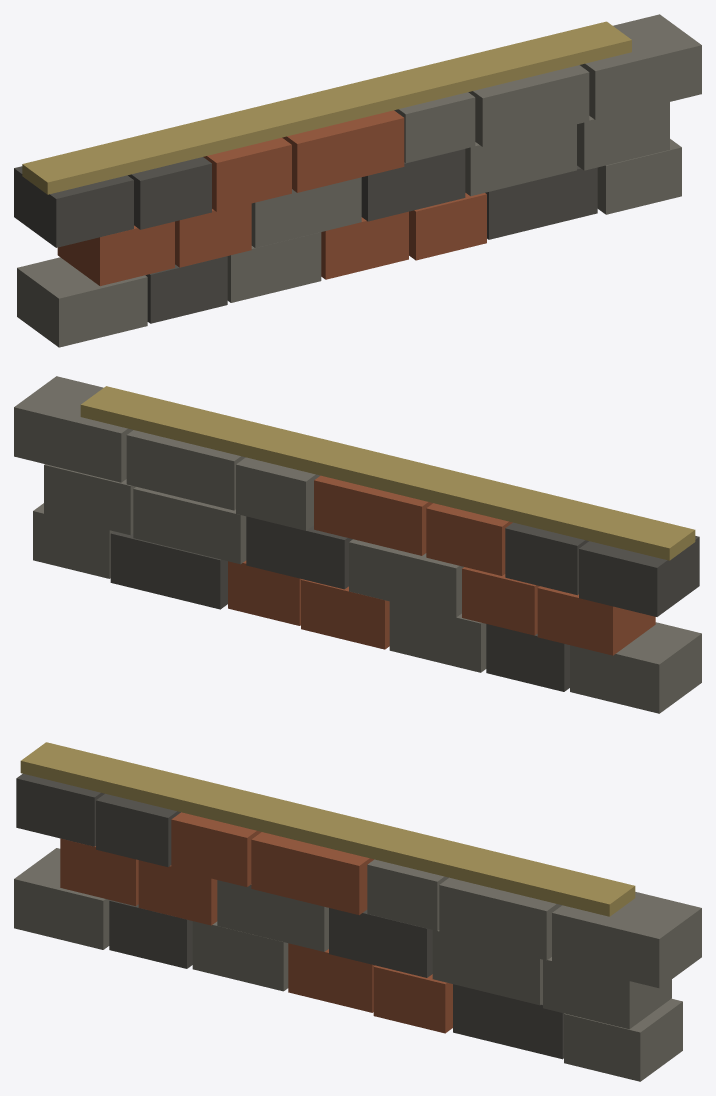
The model's file is a2v_red_wall_low.glb.
3 views of the same model, one above another, from view 1: azimuth 30°, elevation 25°; view 2: azimuth 150°, elevation 25°; view 3: azimuth 330°, elevation 25° (orthographic).
Visible parts, largest first — view 1: a2v_red_wall_low; view 2: a2v_red_wall_low; view 3: a2v_red_wall_low.
Boxes of the visible parts, x1,y1,x2,y2 form: a2v_red_wall_low: (14, 14, 701, 347); a2v_red_wall_low: (14, 376, 701, 713); a2v_red_wall_low: (14, 742, 701, 1081).
Bounding box in the file's own units: 4.41 × 1.04 × 0.5504.
